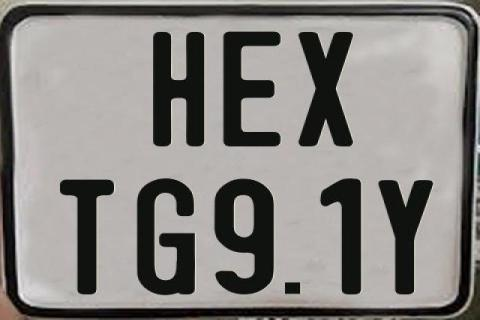0: (214, 177, 275, 297), (320, 176, 367, 294)
E: (222, 29, 280, 144)
G: (136, 176, 197, 297)
H: (150, 32, 206, 150)
T: (58, 177, 113, 292)
X: (295, 31, 351, 146)
Y: (375, 180, 432, 295)
